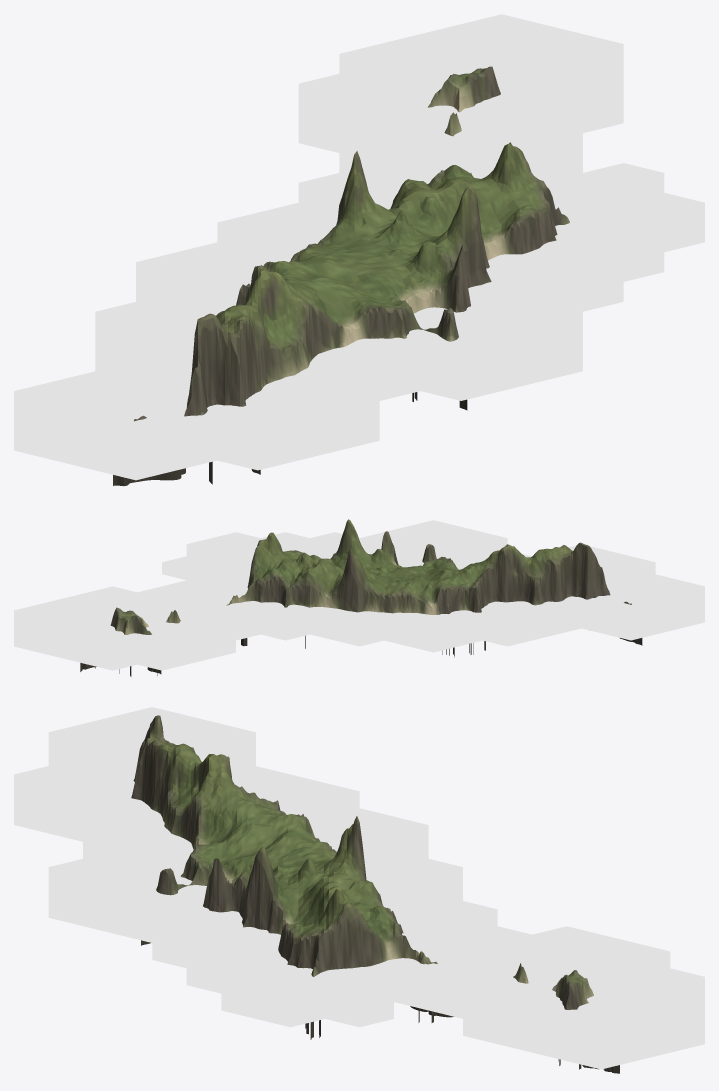
Rendered from landmark-fernando-de-noronha-balanced.v1.glb.
3 renders of one model, top to bottom at view 1: azimuth 30°, elevation 25°; view 2: azimuth 150°, elevation 25°; view 3: azimuth 270°, elevation 25°, orthographic. The views are drawn at different scales.
Visible parts, largest first — view 1: surf, island; view 2: surf, island; view 3: surf, island.
Part boxes in pixels (box(x1,y1,x2,y2)): surf: box(14, 14, 704, 480); island: box(113, 66, 569, 486); surf: box(14, 520, 704, 670); island: box(80, 519, 642, 676); surf: box(14, 707, 704, 1069); island: box(131, 715, 619, 1073).
Bounding box in the file's own units: 45.15 × 8.07 × 36.37.
